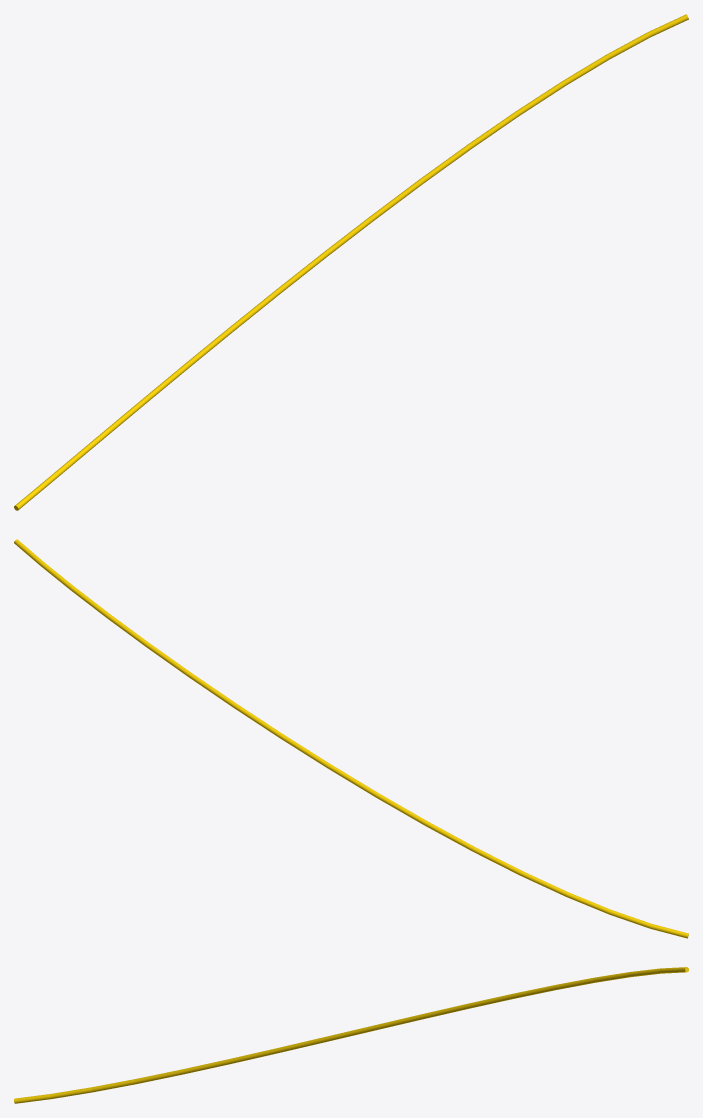
The model's file is Event_421364160_track_16.fbx.
3 renders of one model, top to bottom at view 1: azimuth 30°, elevation 25°; view 2: azimuth 150°, elevation 25°; view 3: azimuth 330°, elevation 25°, orthographic. The views are drawn at different scales.
Parts seen in each view (by area): view 1: Model; view 2: Model; view 3: Model.
Part boxes in pixels (x1,y1,x2,y2): Model: (14,14,688,510); Model: (14,539,688,938); Model: (14,967,688,1103).
Bounding box in the file's own units: 5.59 × 2.23 × 0.7115.
